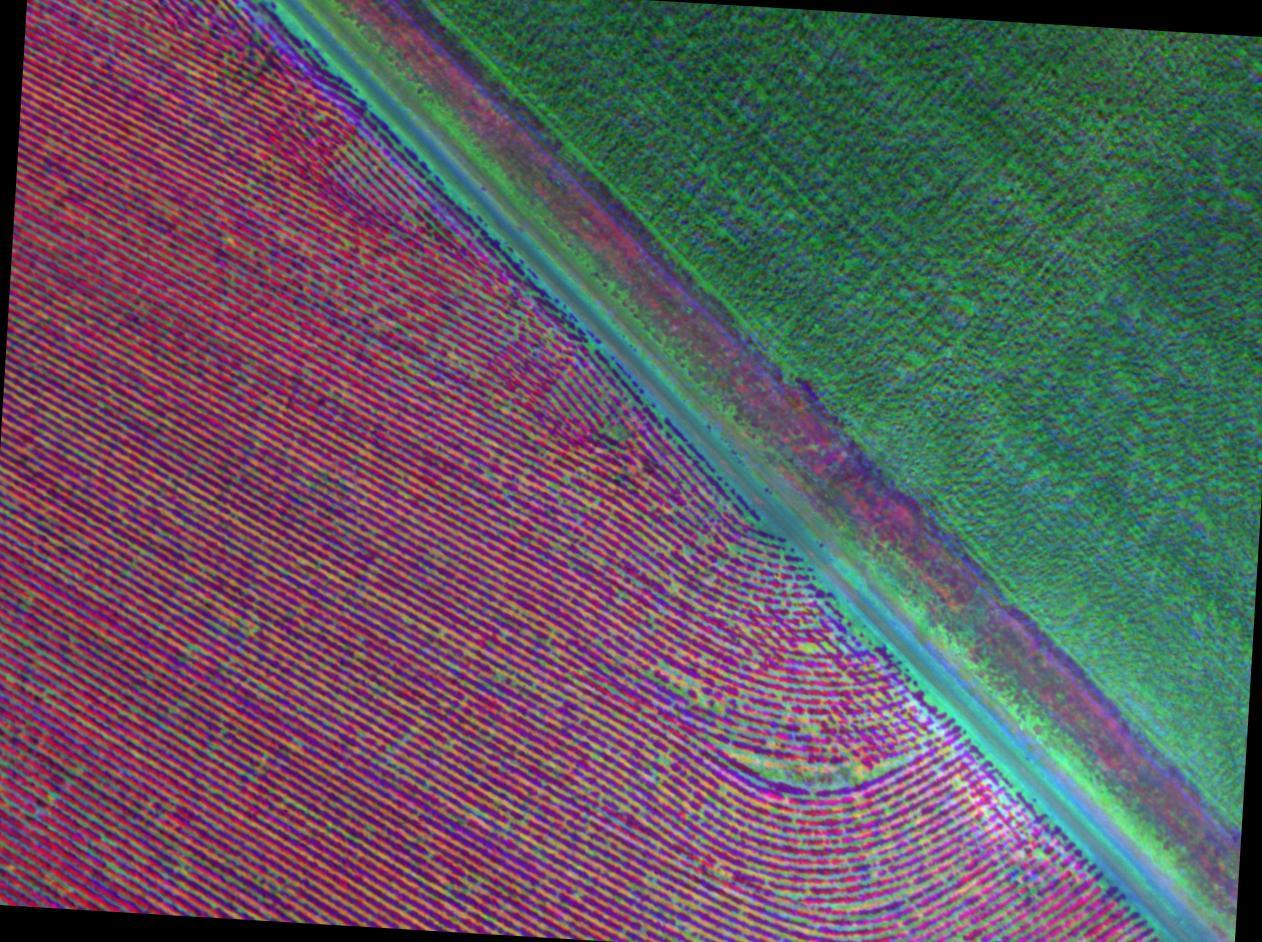dc: (696, 725, 926, 789), (783, 873, 959, 922), (588, 723, 678, 818), (636, 643, 729, 709), (558, 388, 631, 461)
